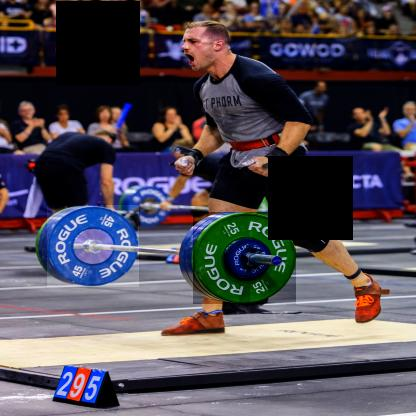barbell: (194, 213, 297, 305), (48, 206, 140, 288)
